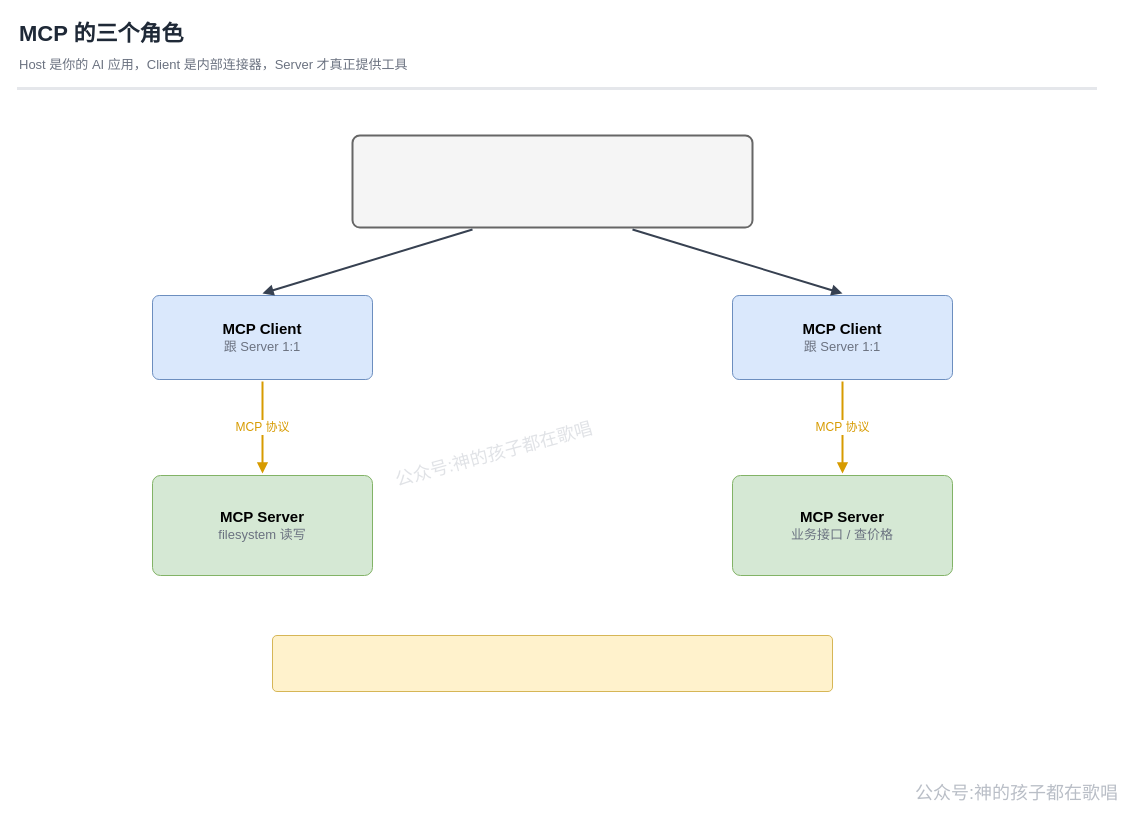
The diagram is 1137 pixels wide and 827 high, and some of its shapes have lost their labels. The shapes that lost their labels are listed below. From the top down, each one's centre as x and y in pixels, then its label:
point (552, 181): MCP Host Claude Desktop / IDE 插件
point (552, 663): Server 可独立部署、独立升级；Agent 换框架不用改工具代码
